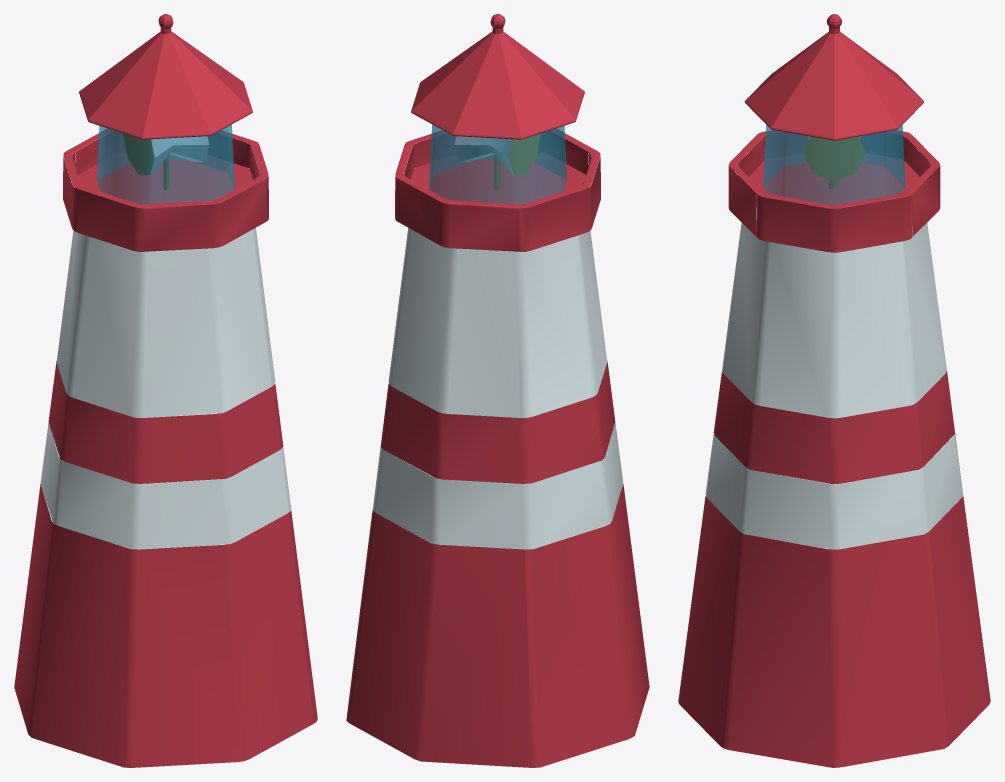
Rendered from lighthouse.glb.
3 renders of one model, left to right at view 1: azimuth 30°, elevation 25°; view 2: azimuth 150°, elevation 25°; view 3: azimuth 270°, elevation 25°, orthographic.
Visible parts, largest first — view 1: lighthouse, light; view 2: lighthouse, light; view 3: lighthouse, light.
Boxes of the visible parts, <box> form: lighthouse: <box>14,14,317,767</box>; light: <box>123,134,209,190</box>; lighthouse: <box>346,14,649,767</box>; light: <box>454,134,540,189</box>; lighthouse: <box>678,14,990,767</box>; light: <box>803,136,865,189</box>.
Size of the model in its own units: 0.9937 by 2.41 by 0.994.
